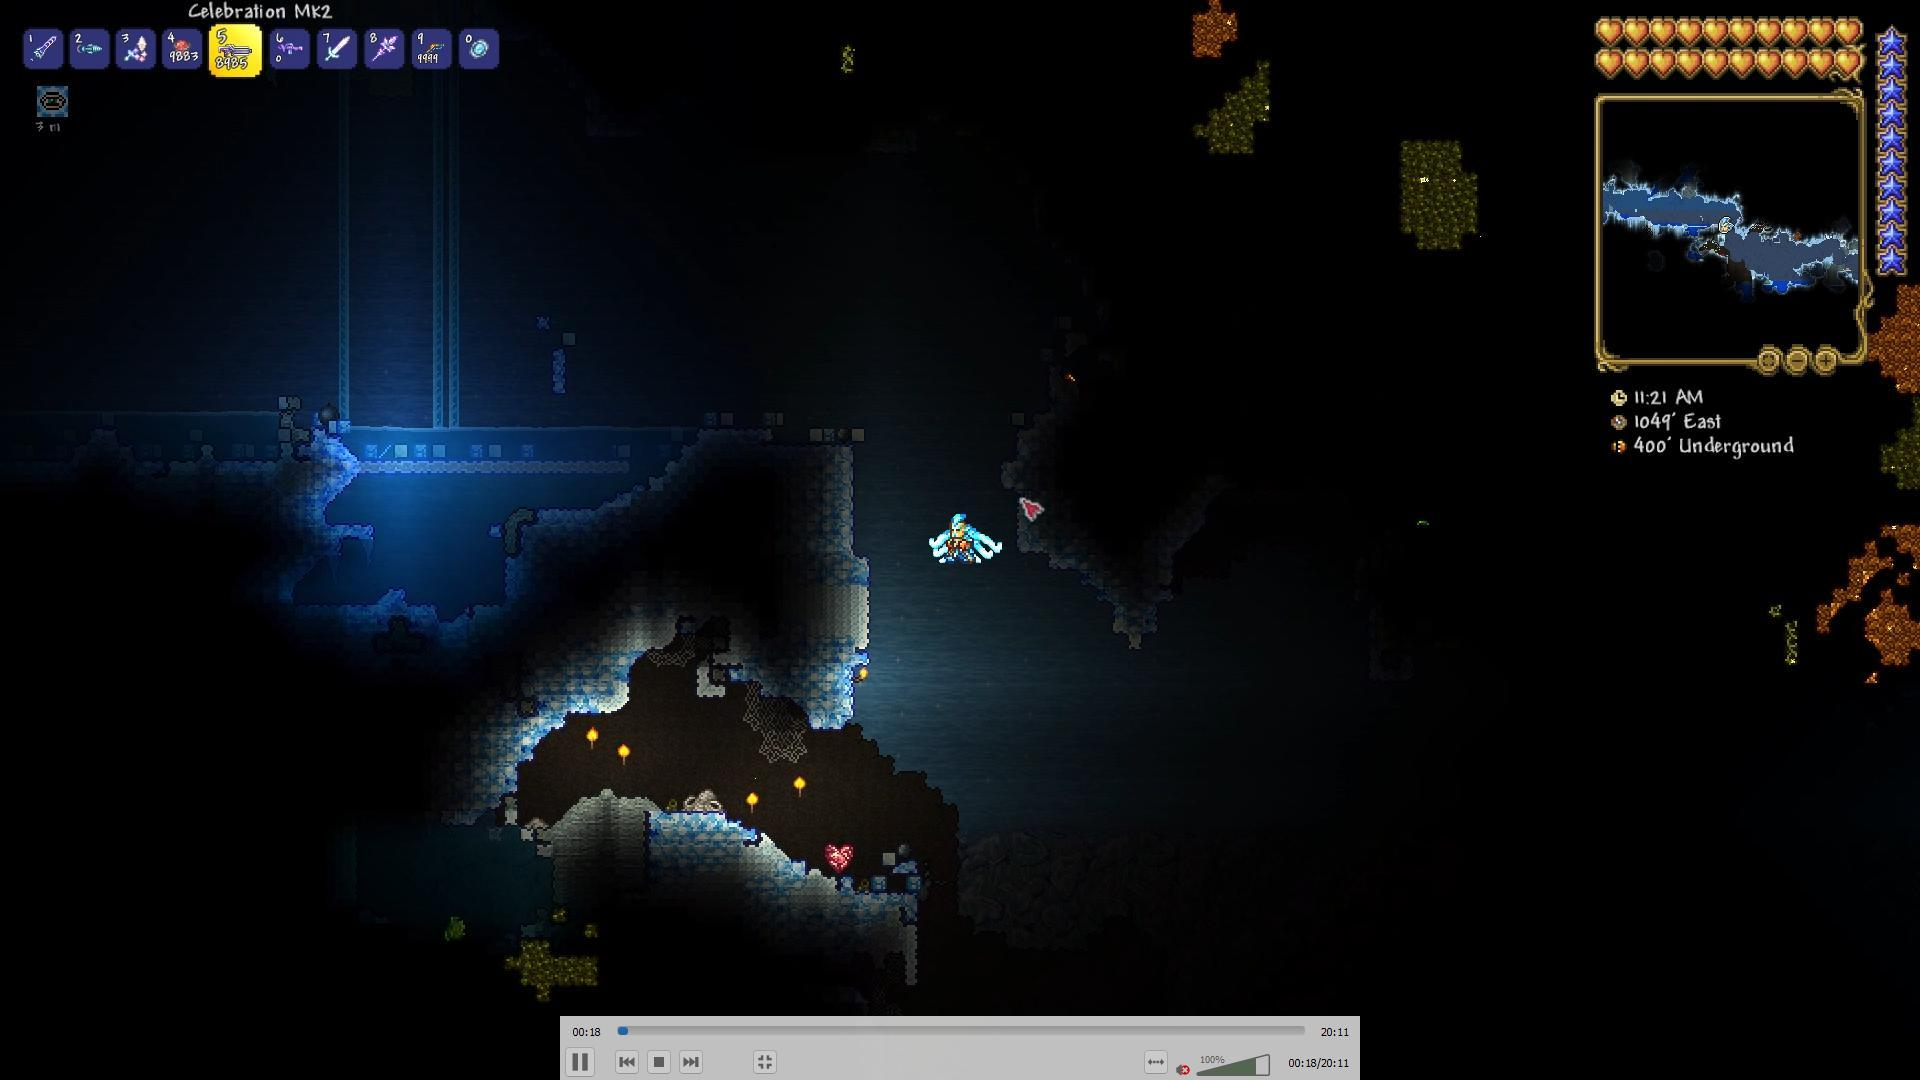lifeC: (820, 837, 855, 876)
